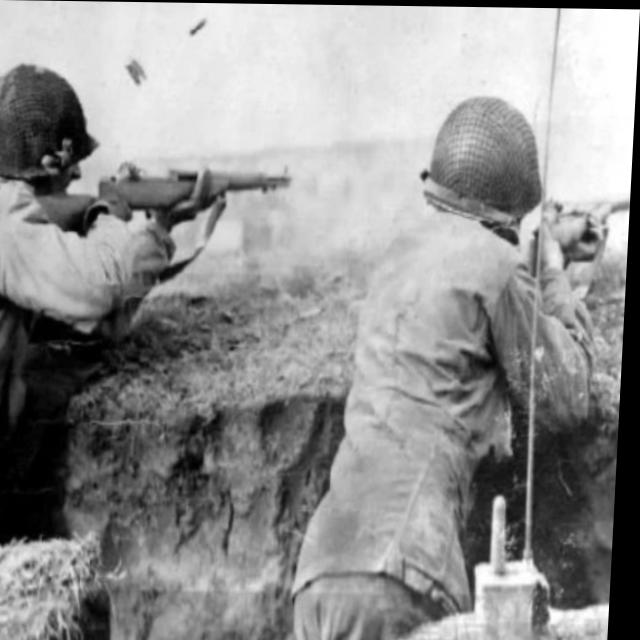other: (303, 80, 599, 623), (0, 56, 194, 530)
